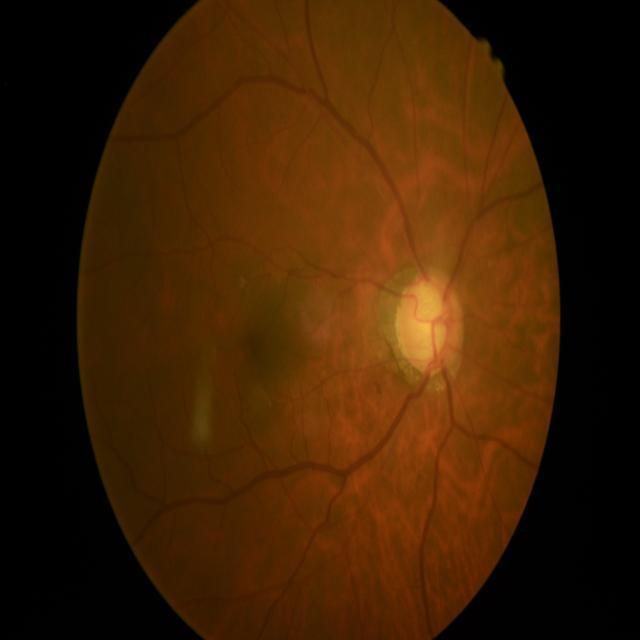cup: (402, 282, 452, 365)
disk: (396, 270, 464, 377)
